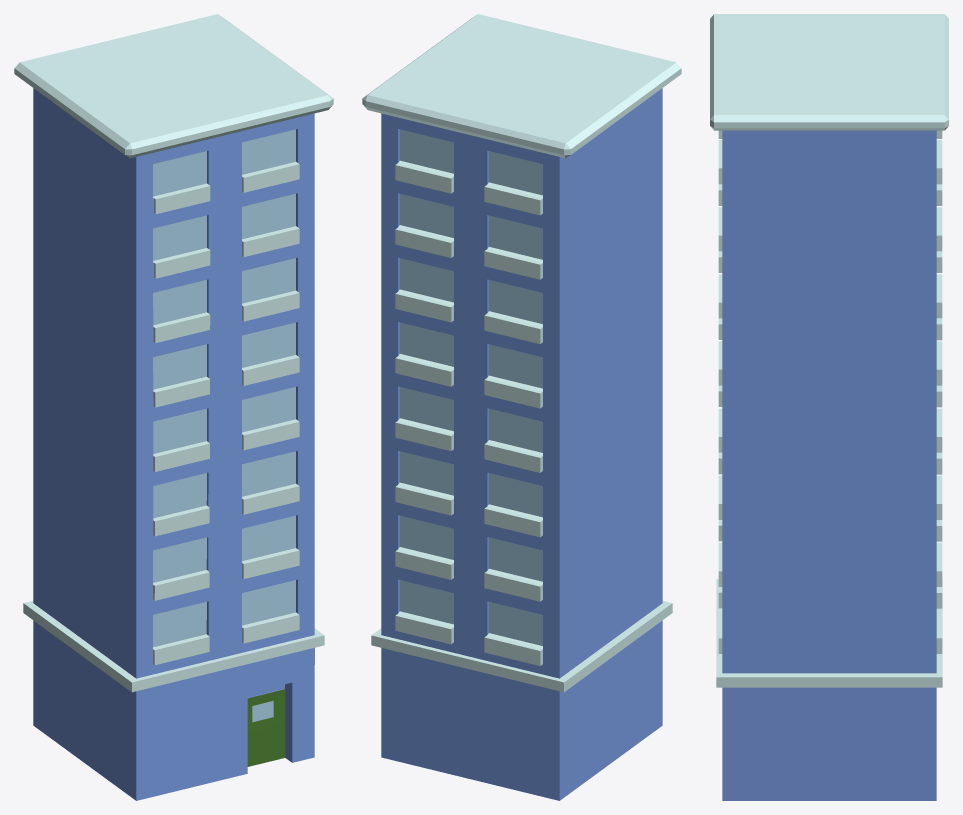
File: flatB.fbx
The picture shows the model from 3 angles, left to right: view 1: azimuth 30°, elevation 25°; view 2: azimuth 150°, elevation 25°; view 3: azimuth 270°, elevation 25°; orthographic projection. The views are drawn at different scales.
Parts seen in each view (by area): view 1: FlatB; view 2: FlatB; view 3: FlatB.
Boxes of the visible parts, box(x1,y1,x2,y2) form: FlatB: box(14, 14, 333, 800); FlatB: box(362, 14, 681, 800); FlatB: box(710, 14, 948, 800).
Bounding box in the file's own units: 1102 × 3349 × 1049.
